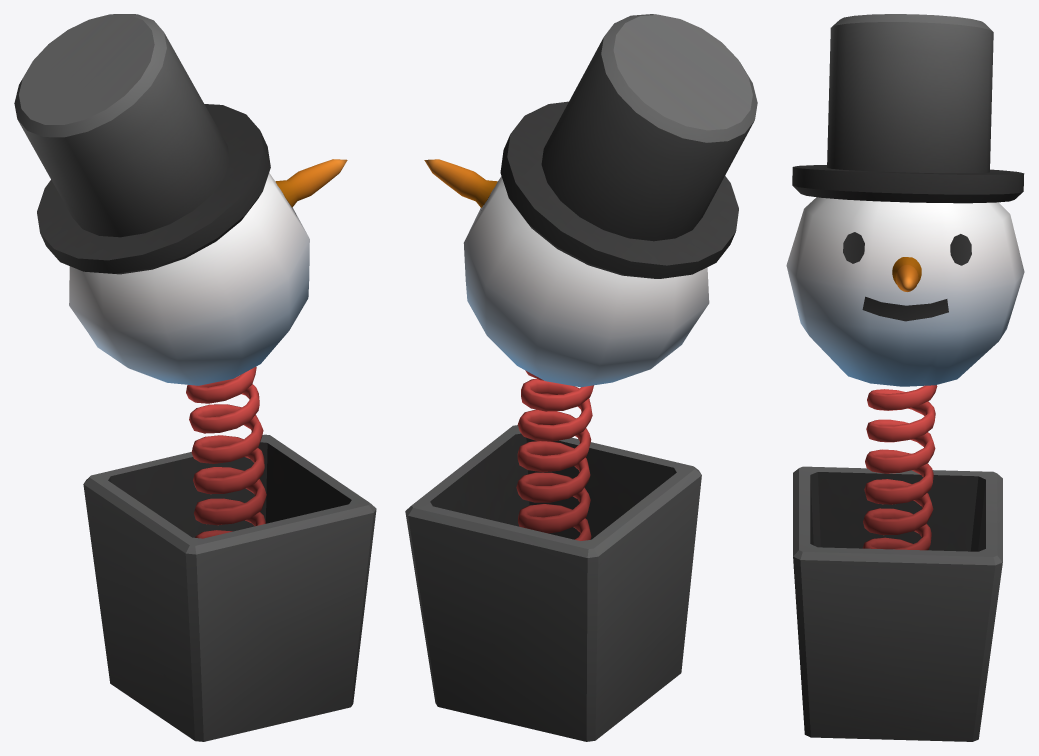
Rendered from jackInBox.fbx.
3 views of the same model, side by side, from view 1: azimuth 30°, elevation 25°; view 2: azimuth 150°, elevation 25°; view 3: azimuth 270°, elevation 25° (orthographic). The views are drawn at different scales.
Parts seen in each view (by area): view 1: jackInBox; view 2: jackInBox; view 3: jackInBox.
Part boxes in pixels (<box>): jackInBox: <box>14,14,376,741</box>; jackInBox: <box>405,14,757,741</box>; jackInBox: <box>786,14,1024,741</box>.
Bounding box in the file's own units: 2.08 × 4.28 × 1.41.
